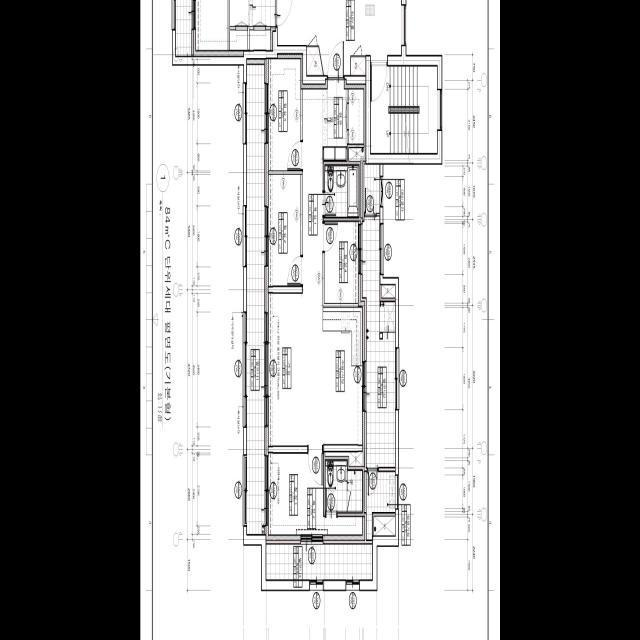background: (140, 0, 500, 640)
space_balconi: (246, 64, 264, 534), (362, 217, 395, 467), (266, 544, 372, 579)
space_bedroom: (268, 453, 362, 534), (268, 59, 300, 171), (268, 175, 300, 286), (324, 222, 358, 303)
space_elevator_hall: (277, 0, 401, 75)
space_front: (322, 80, 346, 160)
space_kitchen: (323, 308, 362, 445)
space_living_room: (268, 89, 322, 447)
space_other: (349, 89, 363, 143), (364, 165, 379, 213), (325, 452, 362, 466), (306, 47, 323, 75), (374, 517, 395, 535), (351, 57, 365, 75), (349, 148, 364, 161), (381, 285, 395, 298)
space_outdoor_room: (366, 472, 395, 539)
space_staircase: (370, 66, 437, 153)
space_toilet: (325, 461, 362, 512), (325, 166, 358, 217)
